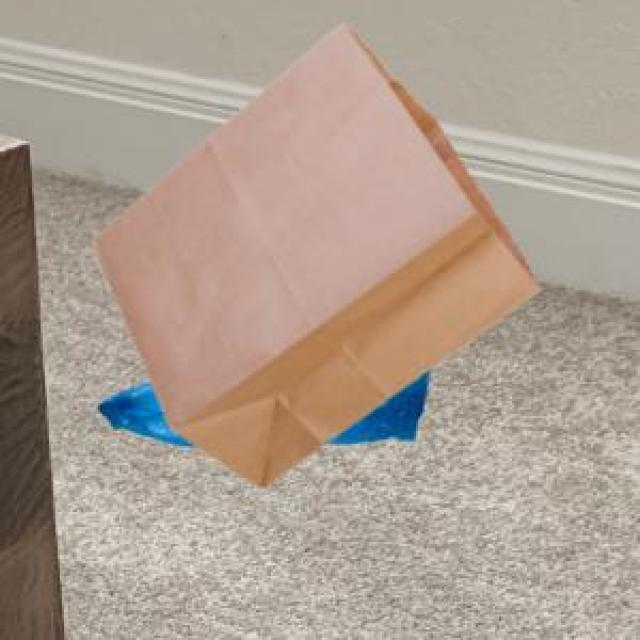paper: (90, 19, 536, 484)
